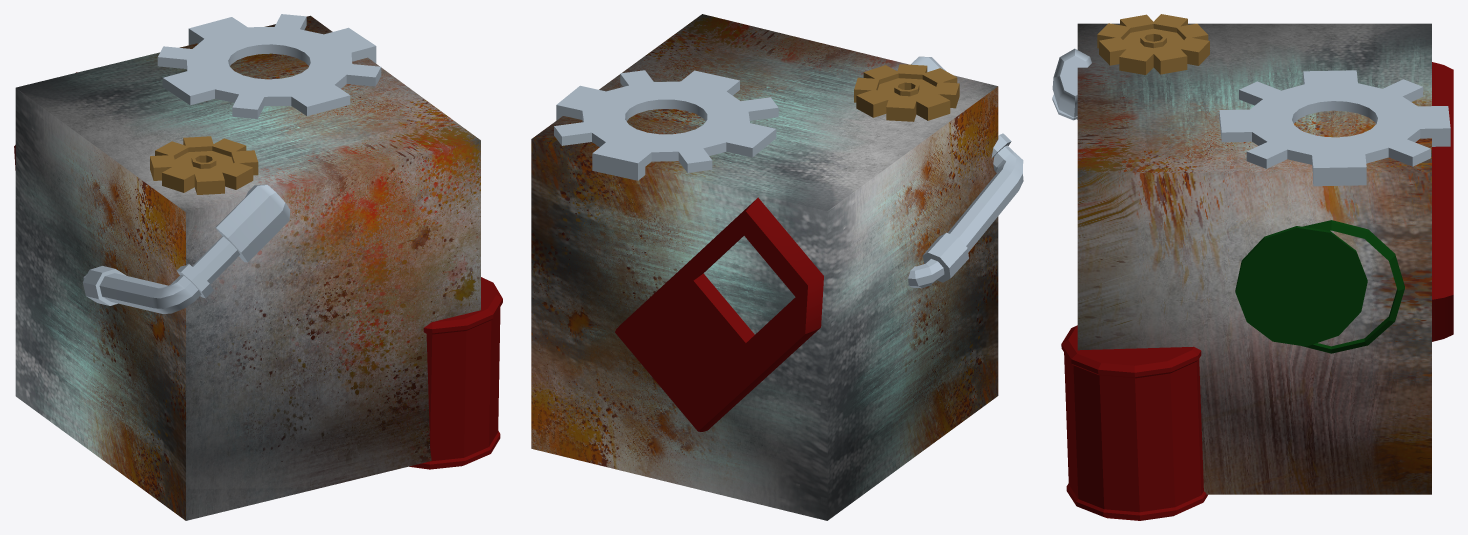
File: junk cube.fbx
3 views of the same model, side by side, from view 1: azimuth 30°, elevation 25°; view 2: azimuth 150°, elevation 25°; view 3: azimuth 270°, elevation 25° (orthographic). The views are drawn at different scales.
Parts seen in each view (by area): view 1: pCube1, pPipe1, pCylinder2, pCylinder1, pPipe3; view 2: pCube1, pCube2, pPipe1, pCylinder1, pPipe3; view 3: pCube1, pCylinder2, pPipe1, pCylinder3, pPipe3, pCube2, pCylinder1.
Boxes of the visible parts, bbox=[...] form: pCube1: bbox=[15, 15, 480, 520]; pPipe1: bbox=[157, 14, 381, 118]; pCylinder2: bbox=[409, 277, 502, 469]; pCylinder1: bbox=[82, 184, 290, 313]; pPipe3: bbox=[150, 136, 258, 194]; pCube1: bbox=[531, 14, 998, 520]; pCube2: bbox=[615, 197, 823, 431]; pPipe1: bbox=[554, 70, 778, 180]; pCylinder1: bbox=[908, 56, 1023, 288]; pPipe3: bbox=[854, 64, 959, 121]; pCube1: bbox=[1077, 23, 1431, 494]; pCylinder2: bbox=[1061, 325, 1207, 520]; pPipe1: bbox=[1219, 70, 1450, 186]; pCylinder3: bbox=[1235, 220, 1404, 353]; pPipe3: bbox=[1097, 14, 1209, 74]; pCube2: bbox=[1432, 62, 1453, 341]; pCylinder1: bbox=[1052, 48, 1091, 120].
Size of the model in its own units: 24.74 by 21.54 by 22.66.
